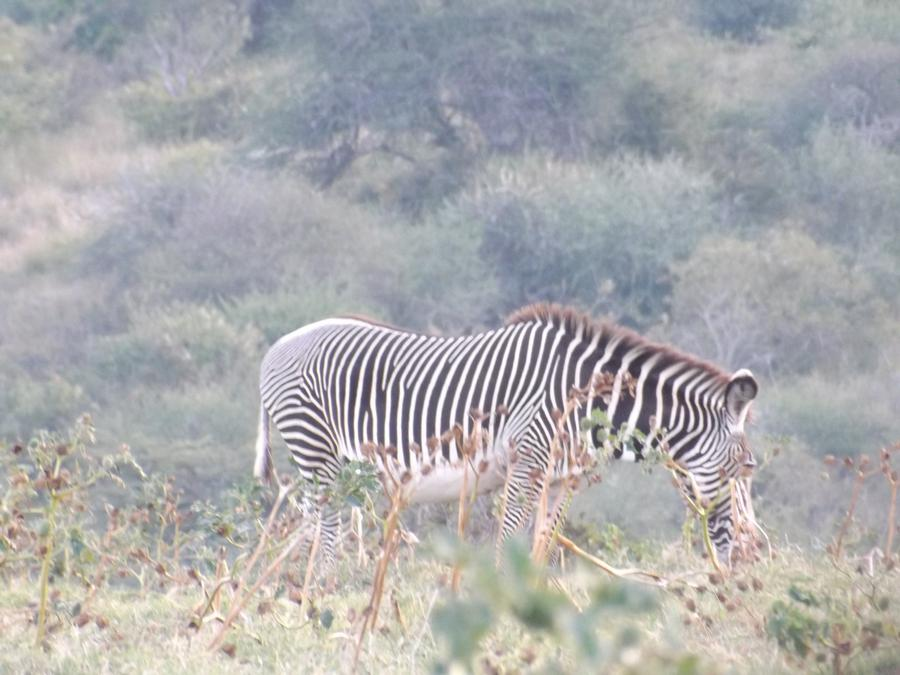zebra_grevys: (258, 301, 557, 479)
